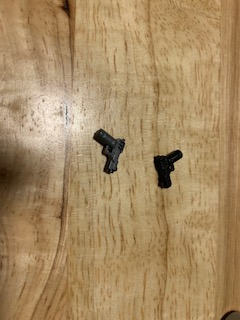pistol: (91, 129, 128, 175), (151, 147, 185, 190)
